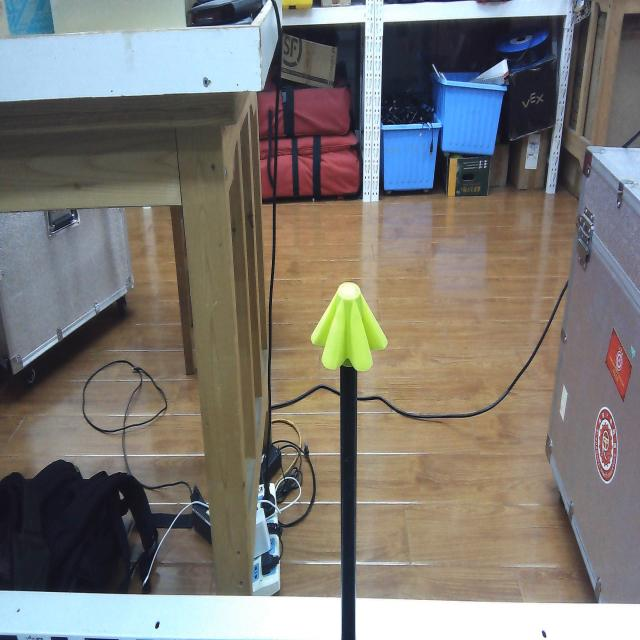Yellow-Stake-Head: (310, 281, 388, 372)
